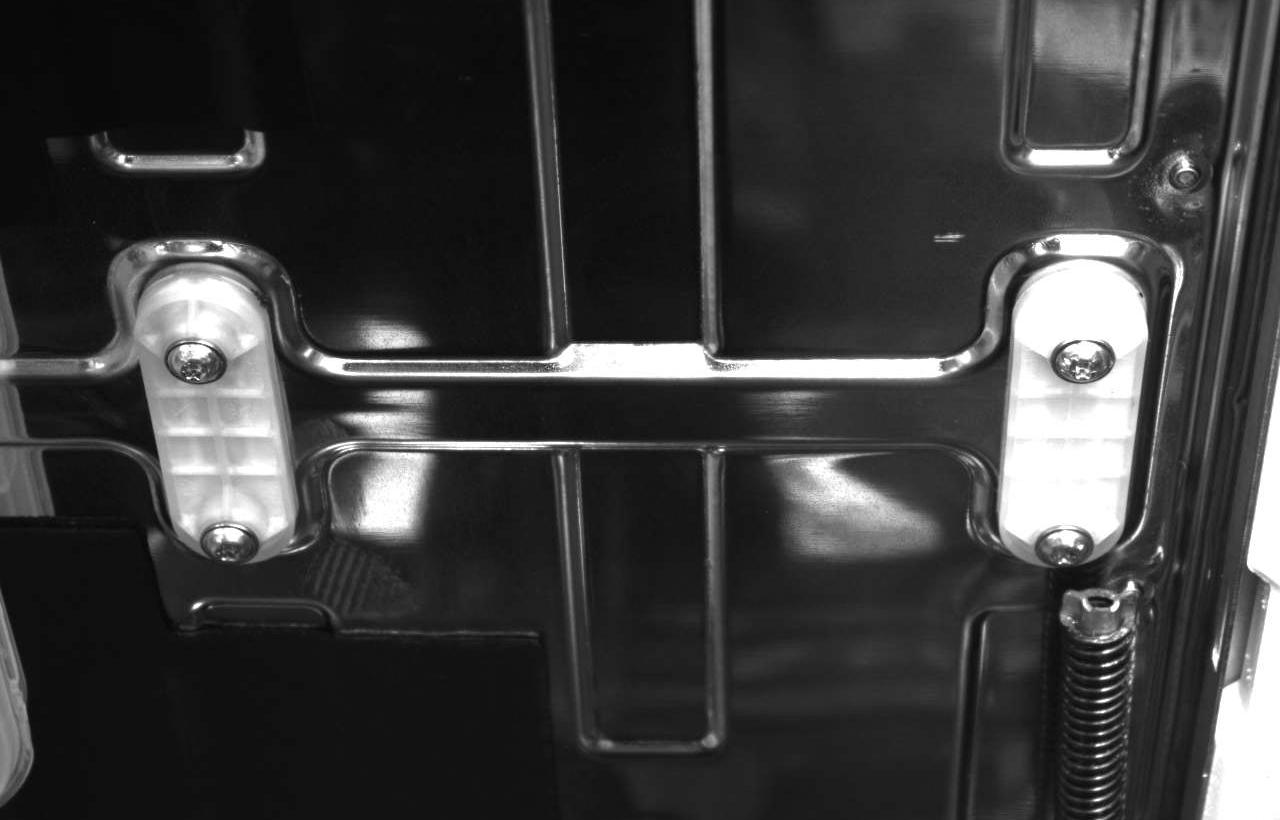vida-ok: (163, 331, 234, 398), (1051, 325, 1119, 392), (1033, 515, 1099, 574), (196, 511, 261, 569)
